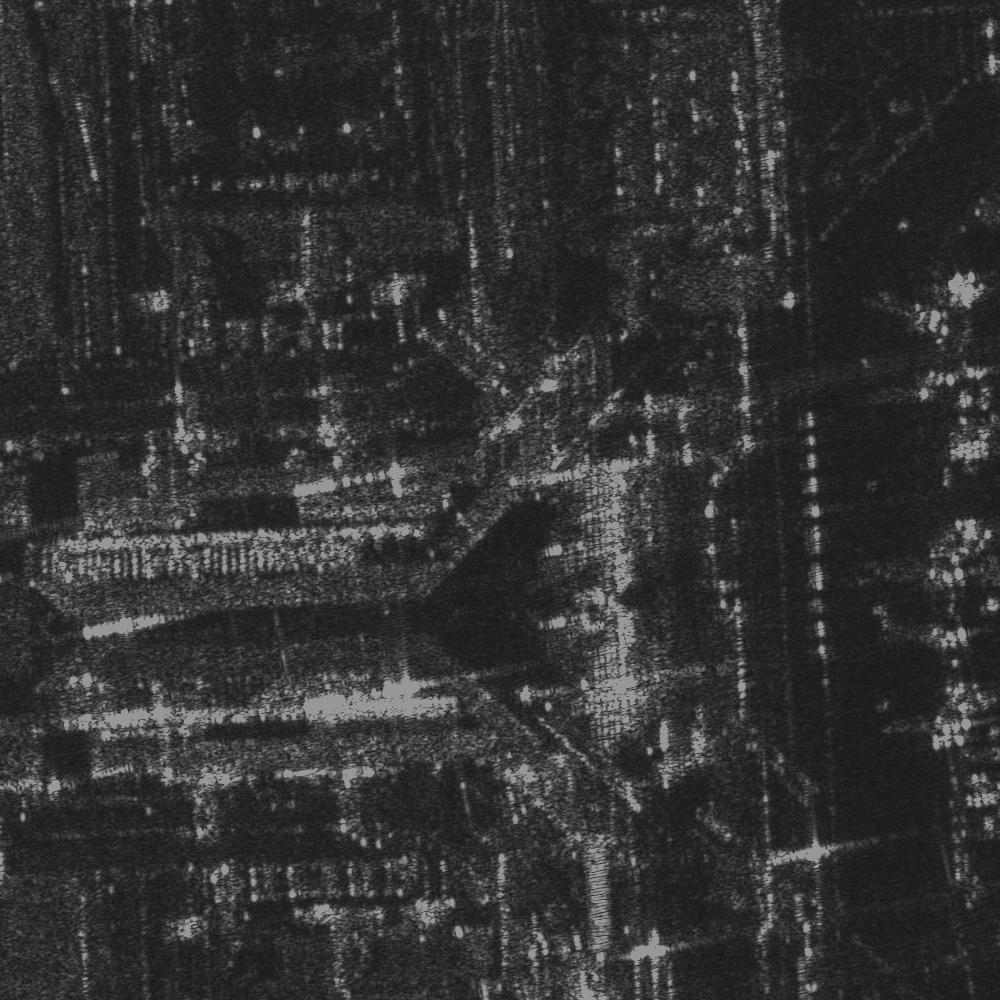A320/321: (924, 507, 999, 616), (914, 674, 999, 764)
